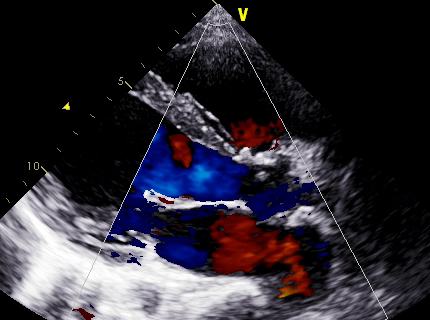MR: (125, 200, 179, 249)
